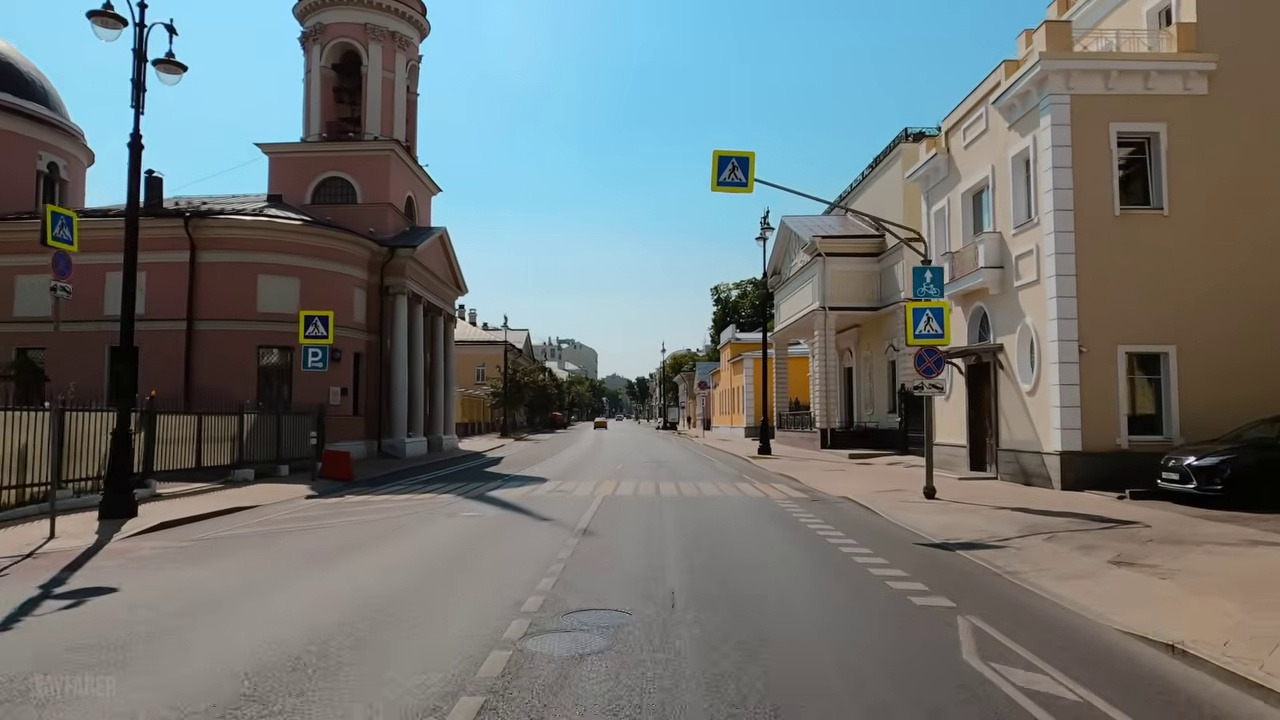apagada: (85, 9, 189, 84)
